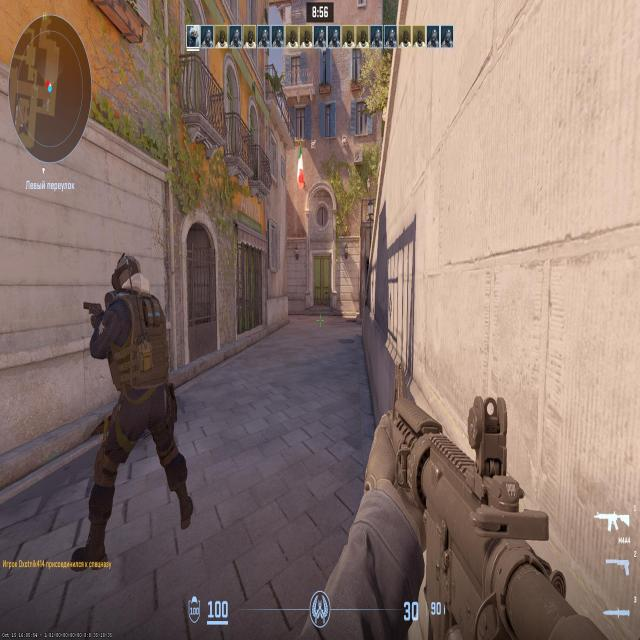CT: (102, 256, 161, 548)
CT_heat: (118, 254, 136, 289)
